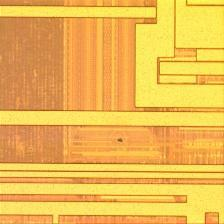PIQ PARTICLE: (117, 137, 125, 145)
